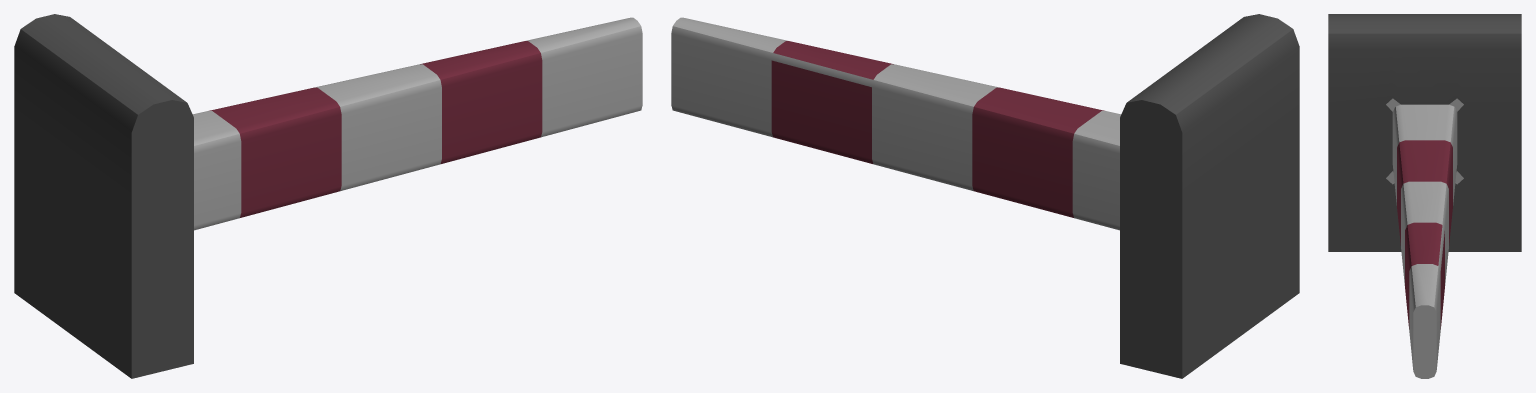
Rendered from GateNextLevel.fbx.
3 renders of one model, left to right at view 1: azimuth 30°, elevation 25°; view 2: azimuth 150°, elevation 25°; view 3: azimuth 270°, elevation 25°, orthographic. The views are drawn at different scales.
Parts seen in each view (by area): view 1: NextStage4, NextStage3; view 2: NextStage4, NextStage3; view 3: NextStage4, NextStage3.
Boxes of the visible parts, x1,y1,x2,y2 form: NextStage4: [14, 14, 193, 378]; NextStage3: [192, 17, 642, 230]; NextStage4: [1120, 14, 1299, 378]; NextStage3: [671, 17, 1121, 230]; NextStage4: [1328, 14, 1521, 251]; NextStage3: [1392, 104, 1457, 378].
Bounding box in the file's own units: 10.33 × 4.72 × 3.73.
